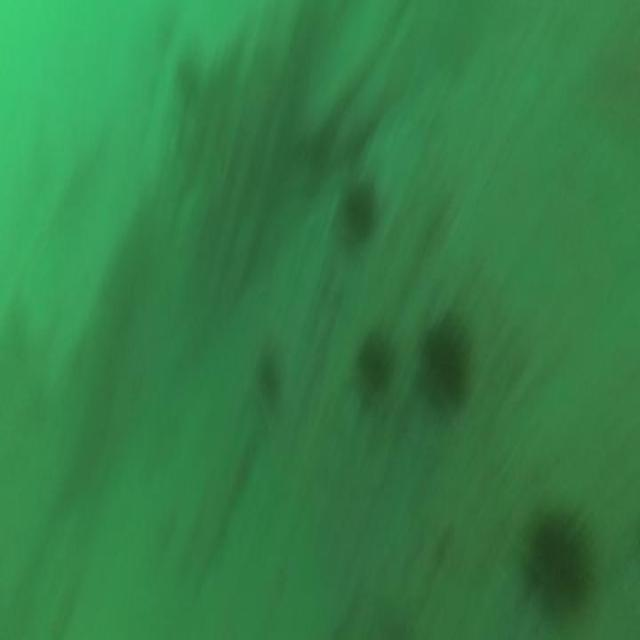echinus: (516, 494, 600, 626), (412, 305, 479, 420), (352, 313, 399, 400), (338, 174, 377, 251), (256, 344, 284, 419)
